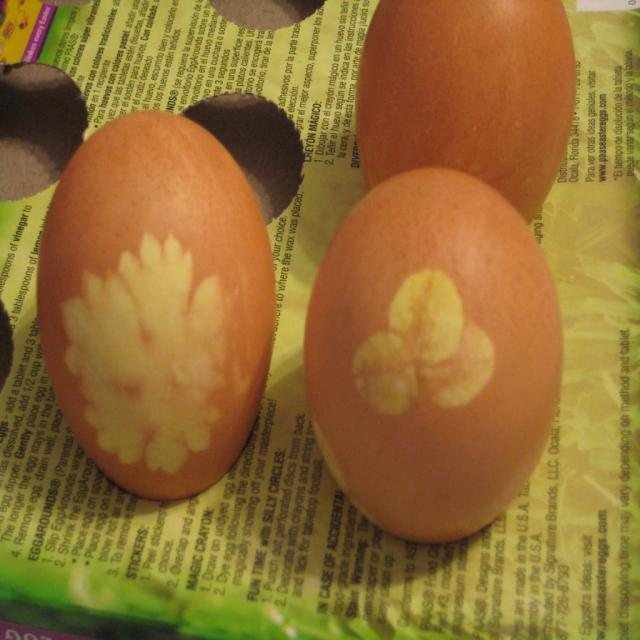Egg: (301, 164, 564, 547), (36, 106, 278, 504), (353, 0, 577, 225)
